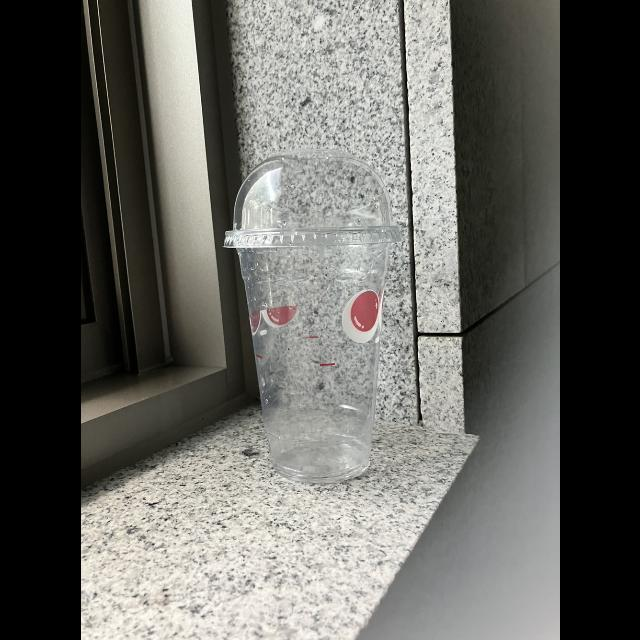plastic_cup: (215, 156, 408, 482)
plastic_cup_lid: (223, 156, 411, 252)
